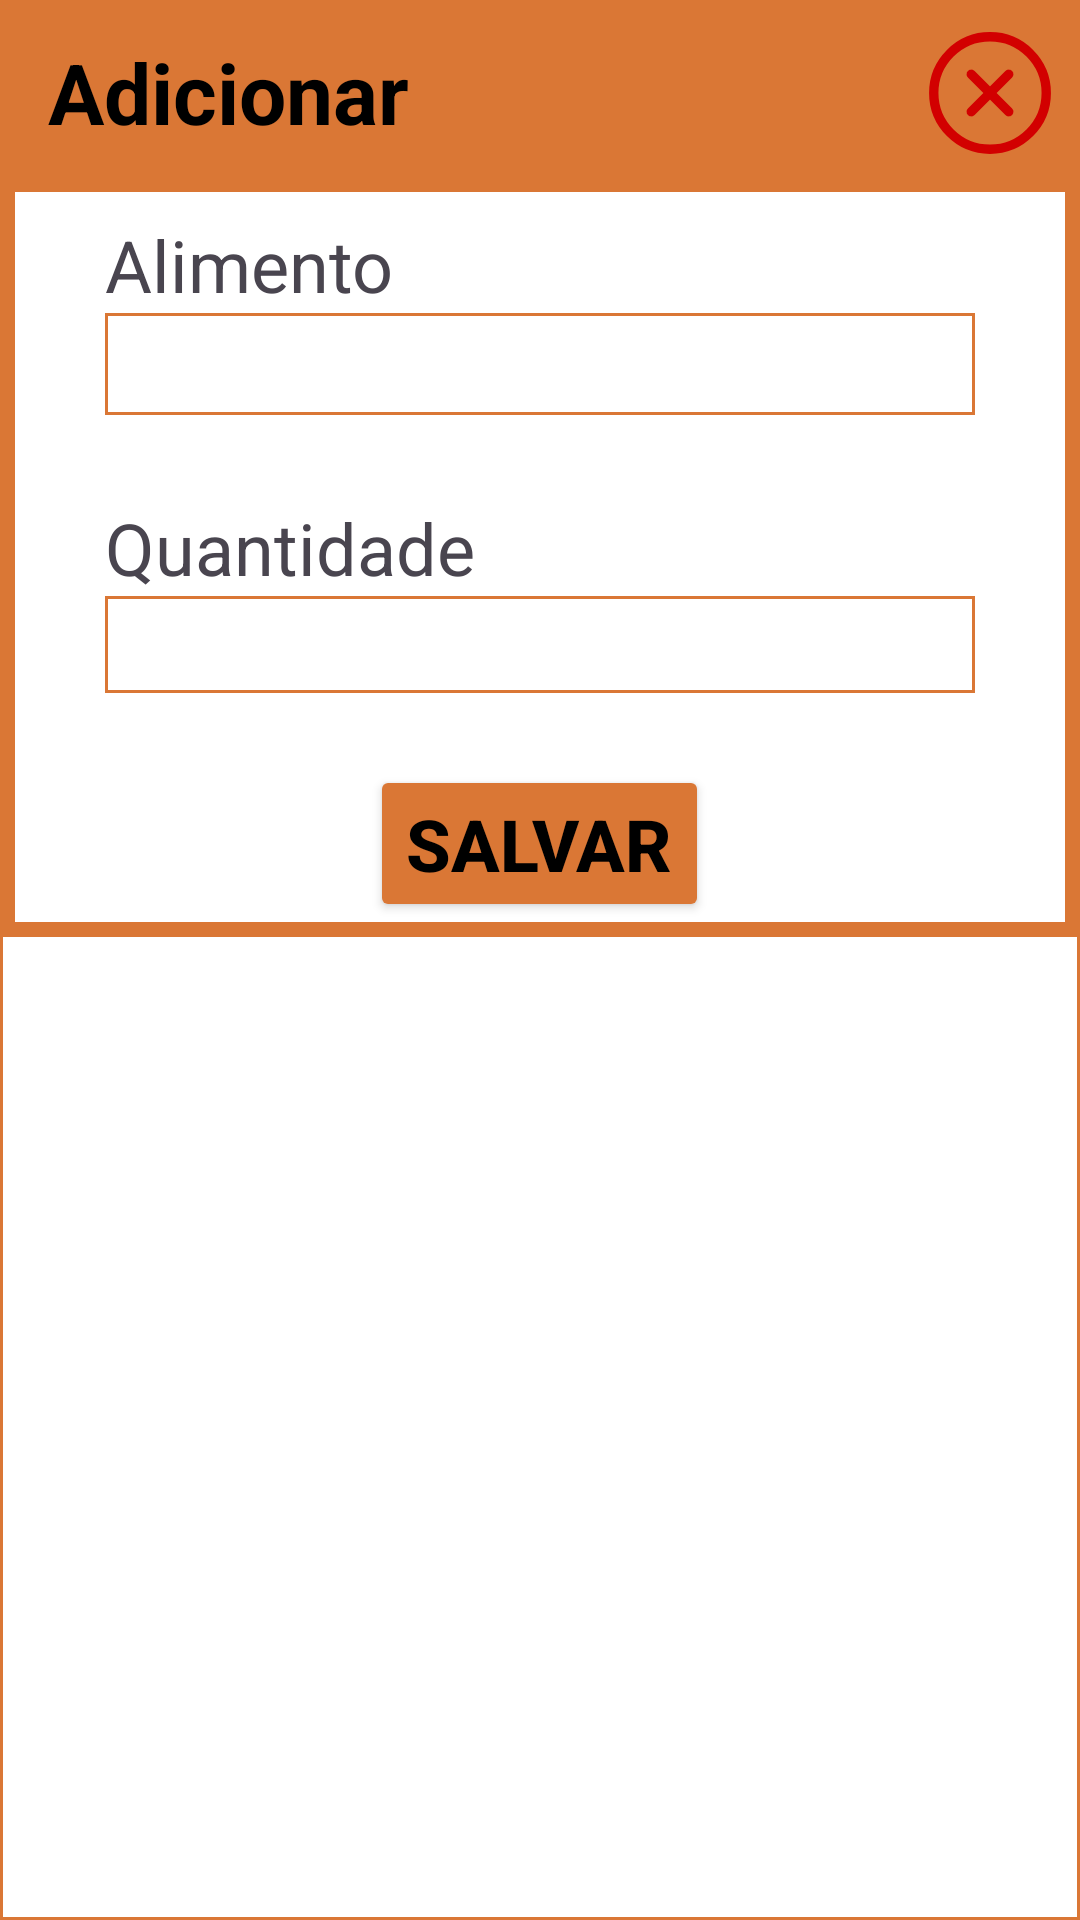

Where icons sit on this 1080x1920 app screen, as (x1, y1, x2, y2):
close circle: (929, 32, 1051, 154)
